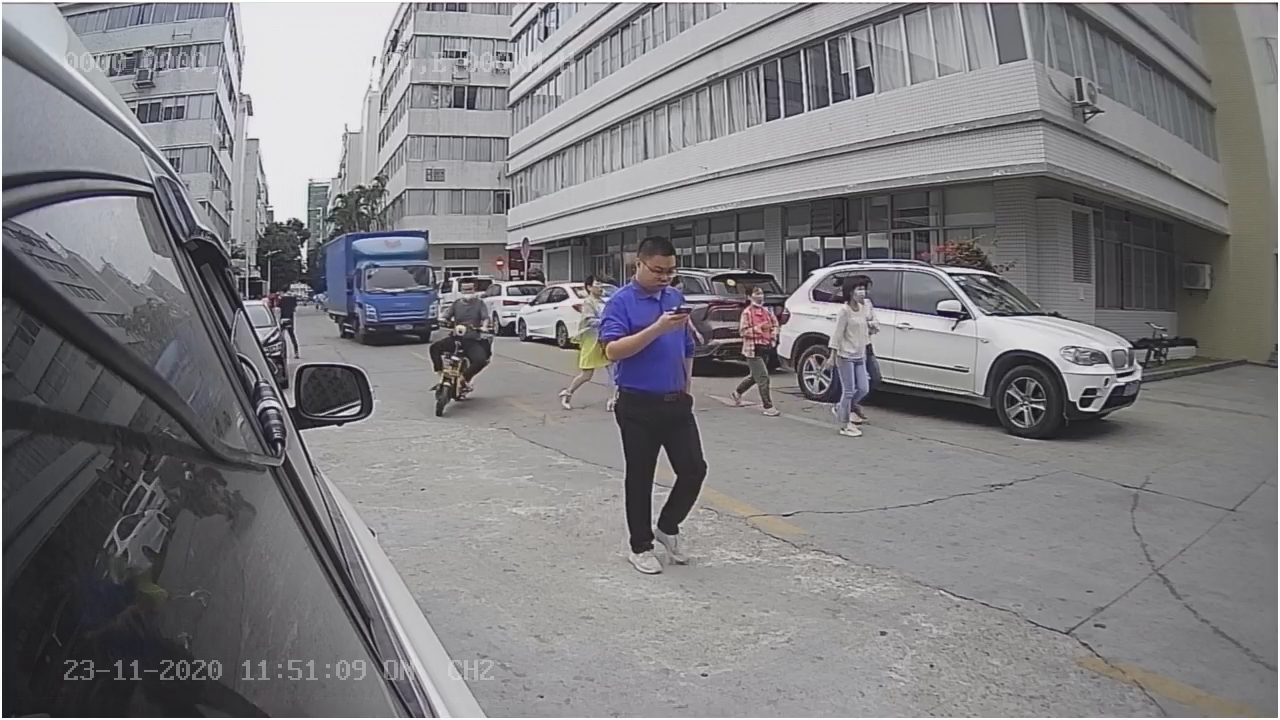person: (593, 232, 714, 570), (732, 277, 784, 417), (433, 274, 491, 328)
